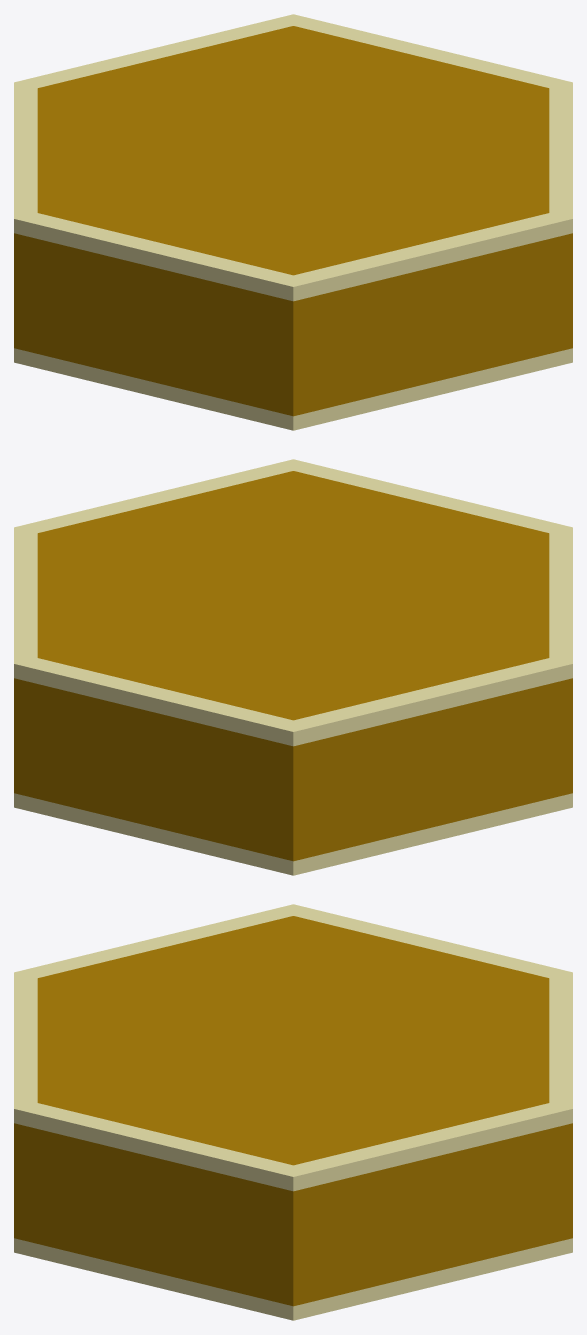
File: HexColumn_4.fbx
3 views of the same model, one above another, from view 1: azimuth 30°, elevation 25°; view 2: azimuth 150°, elevation 25°; view 3: azimuth 270°, elevation 25° (orthographic).
Visible parts, largest first — view 1: dizhuan; view 2: dizhuan; view 3: dizhuan.
Boxes of the visible parts, x1,y1,x2,y2 form: dizhuan: [14, 14, 572, 430]; dizhuan: [14, 459, 572, 875]; dizhuan: [14, 904, 572, 1320].
Size of the model in its own units: 21.26 by 5.22 by 18.41.
